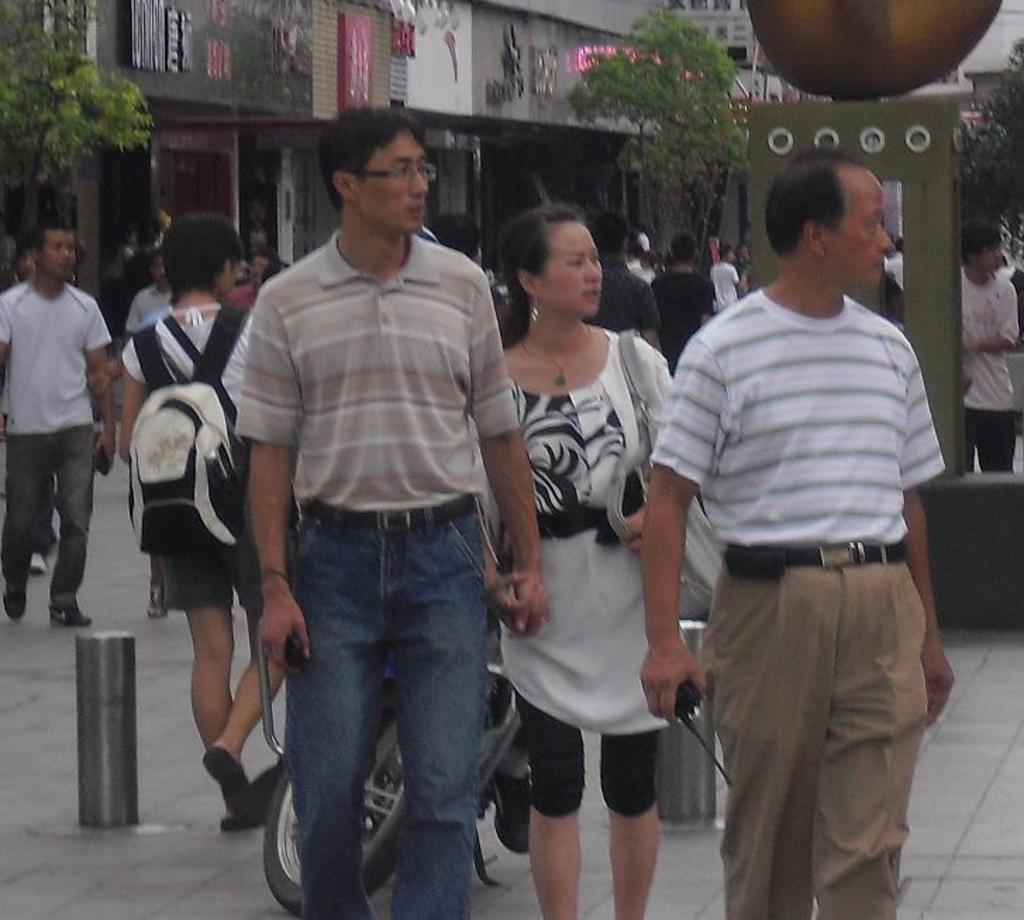Footwear: (486, 748, 538, 862), (200, 742, 251, 812), (48, 600, 101, 631), (3, 571, 27, 623), (144, 579, 170, 621)
